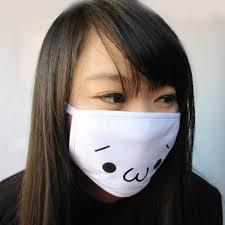OK: (66, 56, 187, 196)
